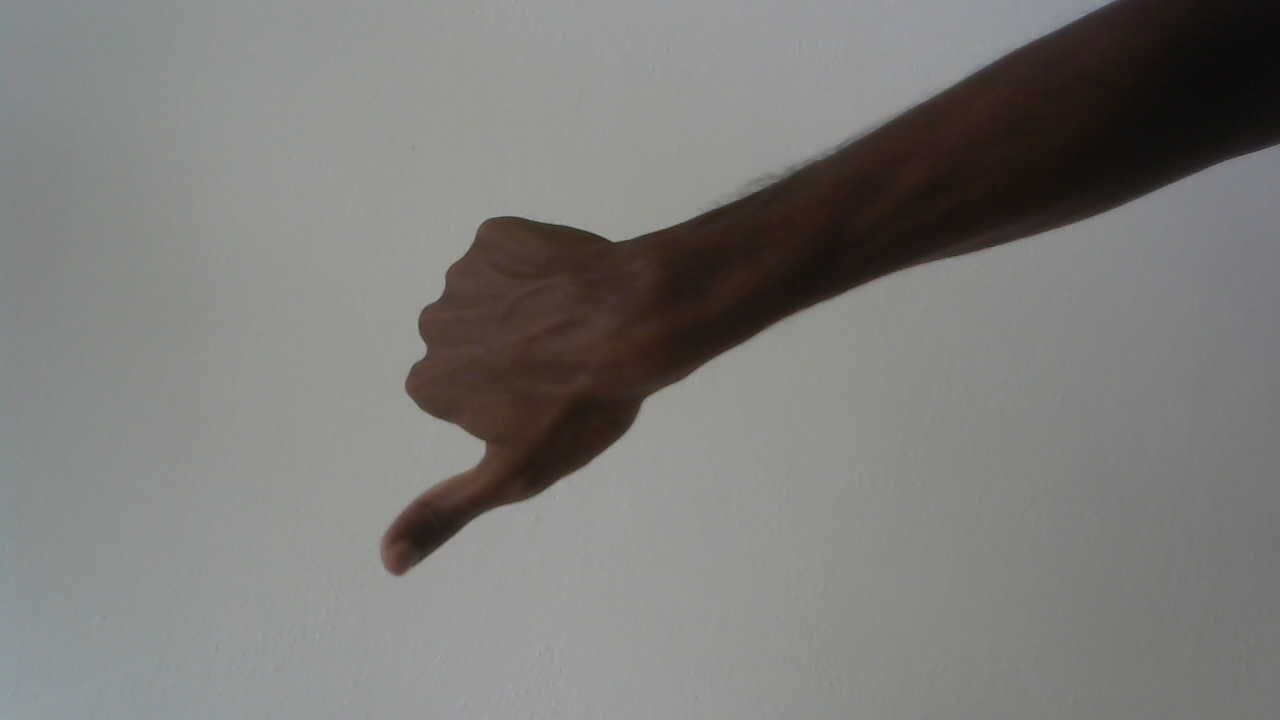thumbsdown: (359, 184, 670, 596)
